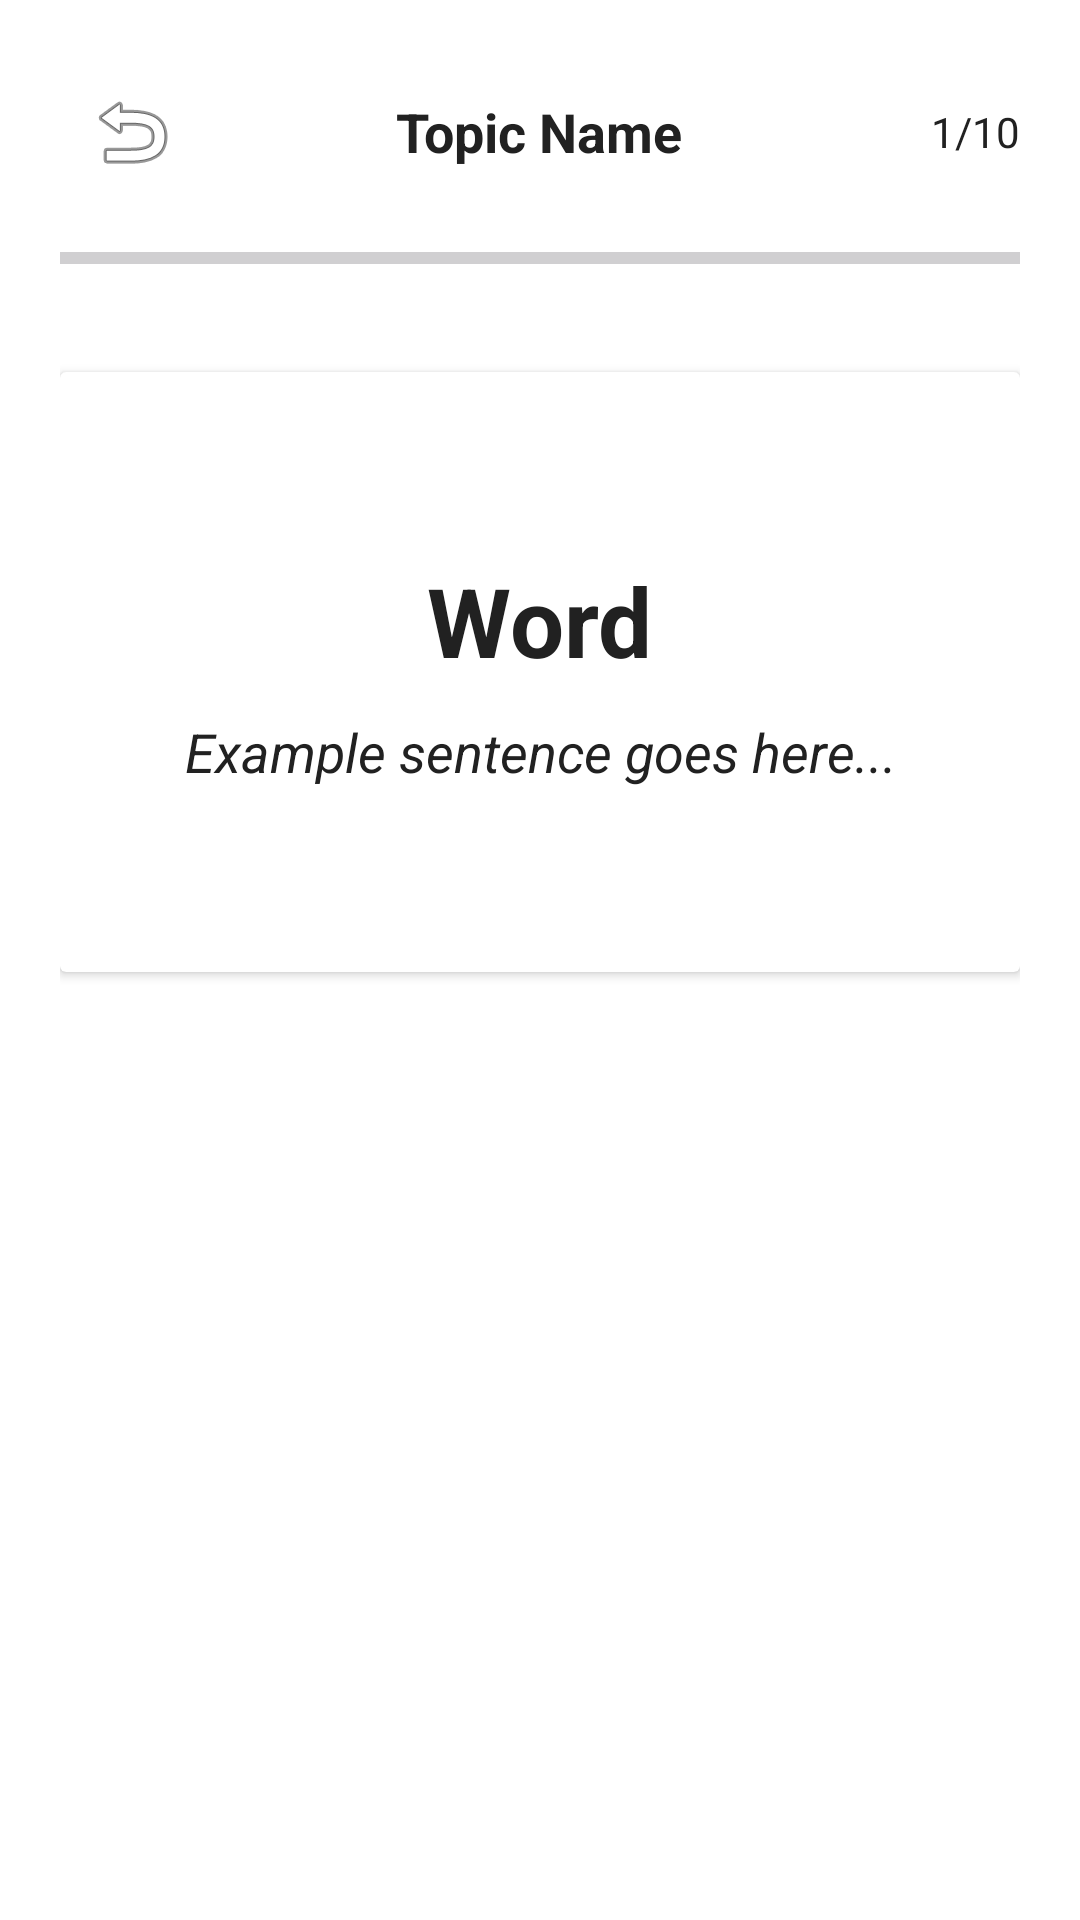

Screen size 1080px x 1920px. Icon name, then its center in pixels as (x,y):
revert: (133,132)
